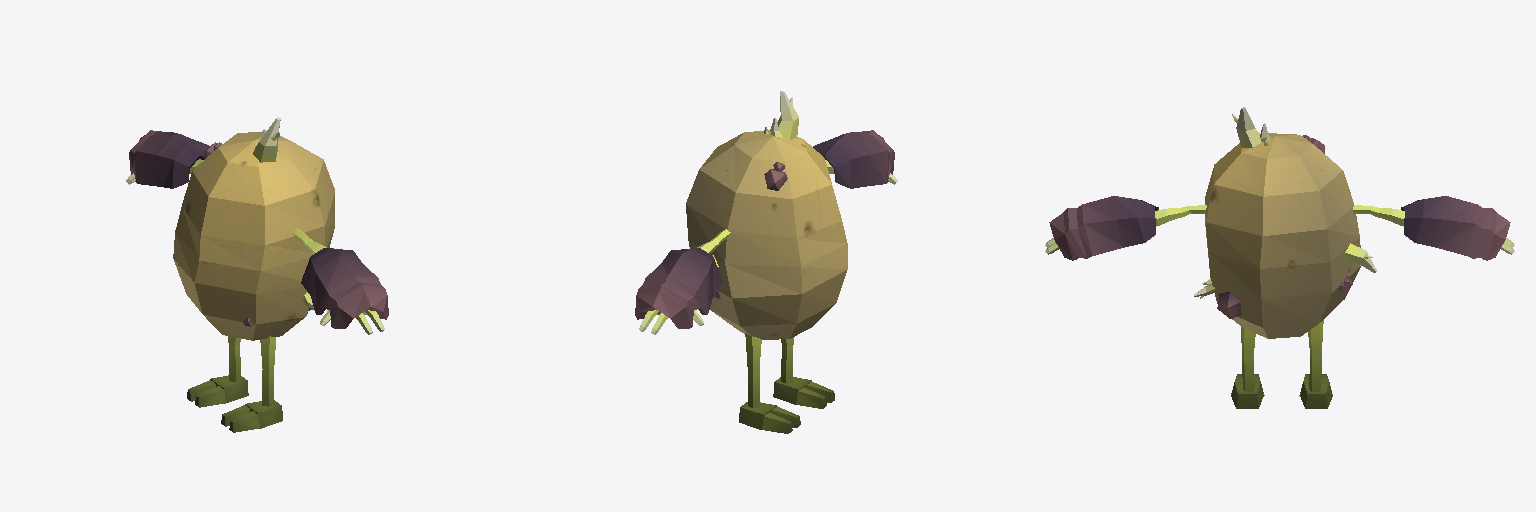
3 renders of one model, left to right at view 1: azimuth 30°, elevation 25°; view 2: azimuth 150°, elevation 25°; view 3: azimuth 270°, elevation 25°, orthographic.
Visible parts, largest first — view 1: Potato_Enemy; view 2: Potato_Enemy; view 3: Potato_Enemy.
Boxes of the visible parts, x1=… form: Potato_Enemy: x1=126, y1=117, x2=388, y2=432; Potato_Enemy: x1=635, y1=91, x2=897, y2=433; Potato_Enemy: x1=1045, y1=107, x2=1514, y2=408.
Size of the model in its own units: 27.26 by 55.35 by 78.44.
Materials: 1 (1 with a texture image).